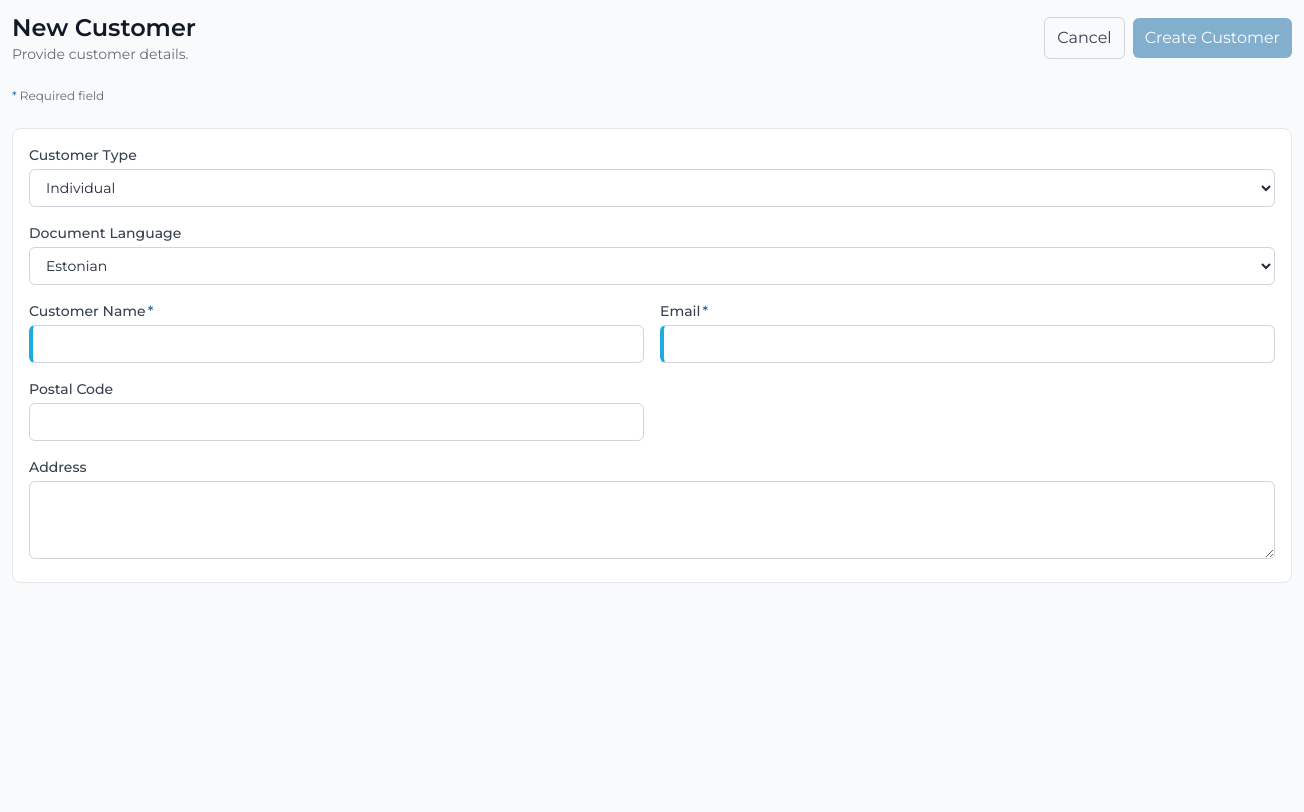
Test case: CustomerForm classification › hides Company Name and Tax/VAT ID when Individual is selected, and does not require them to save
This screenshot has width=1304, height=812.
Type "Jane Doe" into the field labelled "Customer Name".
click(336, 344); type("Jane Doe")  # box [29,325,644,363]
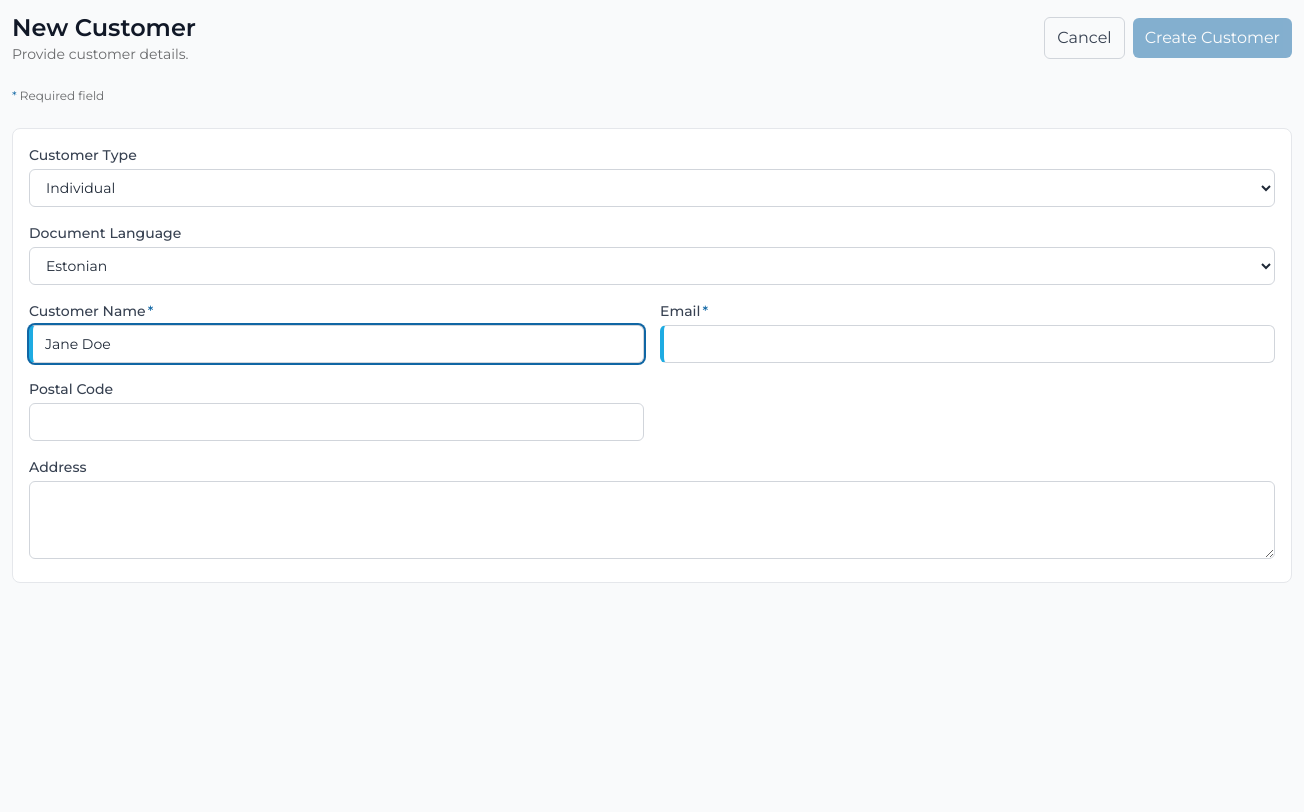
Type "jane@example.com" into the field labelled "Email".
click(968, 344); type("jane@example.com")  # box [660,325,1275,363]
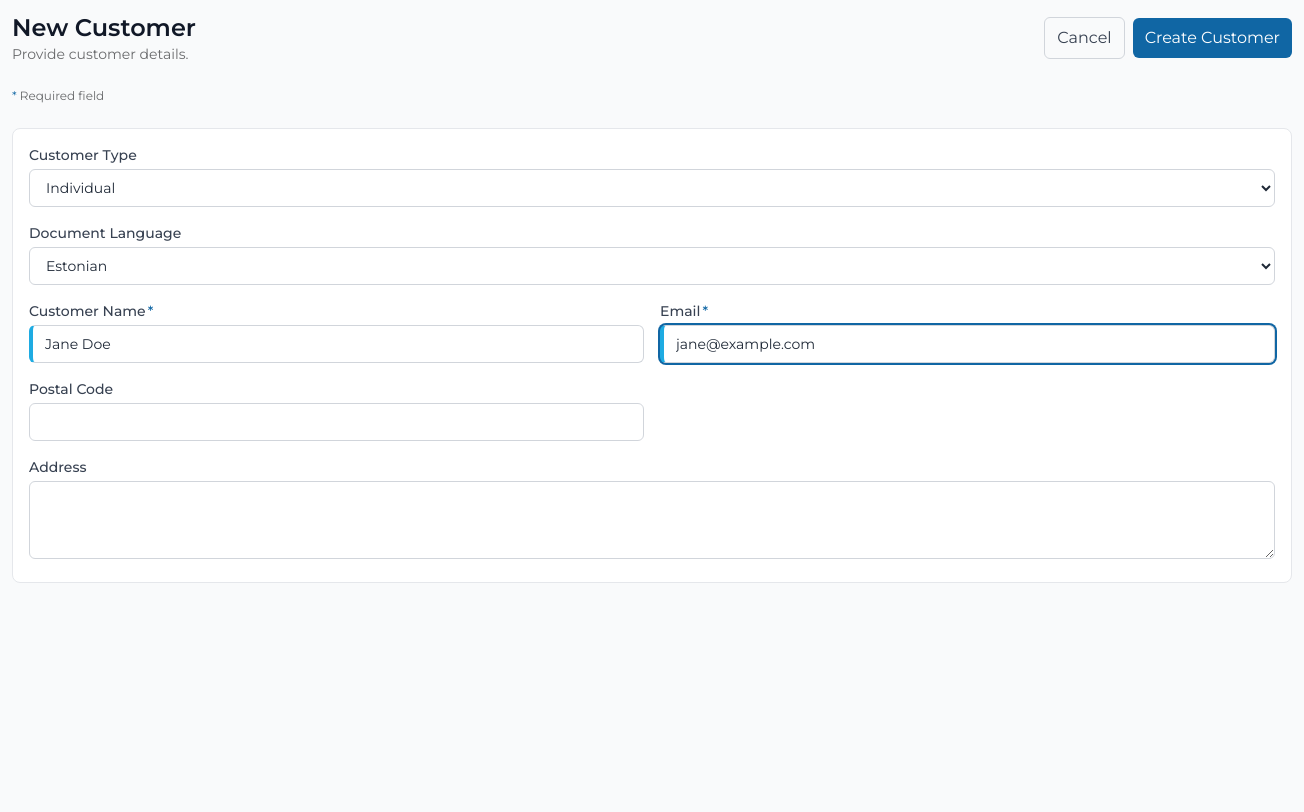
Result: the button "Create Customer" is enabled at [1133,18,1292,58]
